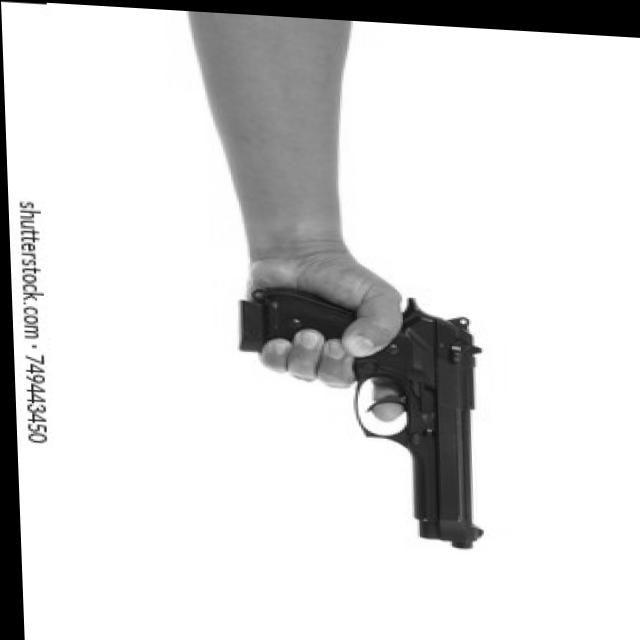handgun: (236, 285, 482, 548)
